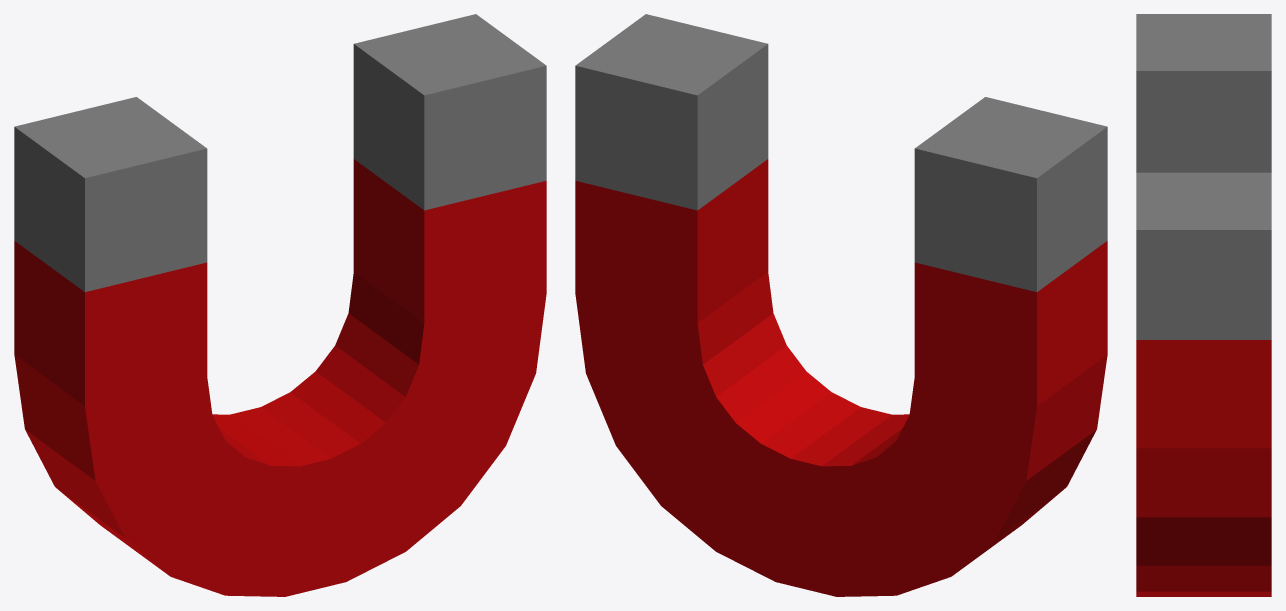
File: Magnet.fbx
3 renders of one model, left to right at view 1: azimuth 30°, elevation 25°; view 2: azimuth 150°, elevation 25°; view 3: azimuth 270°, elevation 25°, orthographic. The views are drawn at different scales.
Parts seen in each view (by area): view 1: Cube.001; view 2: Cube.001; view 3: Cube.001.
Boxes of the visible parts, left/top/right/bottom form: Cube.001: left=14, top=14, right=546, bottom=596; Cube.001: left=575, top=14, right=1107, bottom=596; Cube.001: left=1136, top=14, right=1271, bottom=596.
Bounding box in the file's own units: 0.3487 × 0.3374 × 0.0923.
